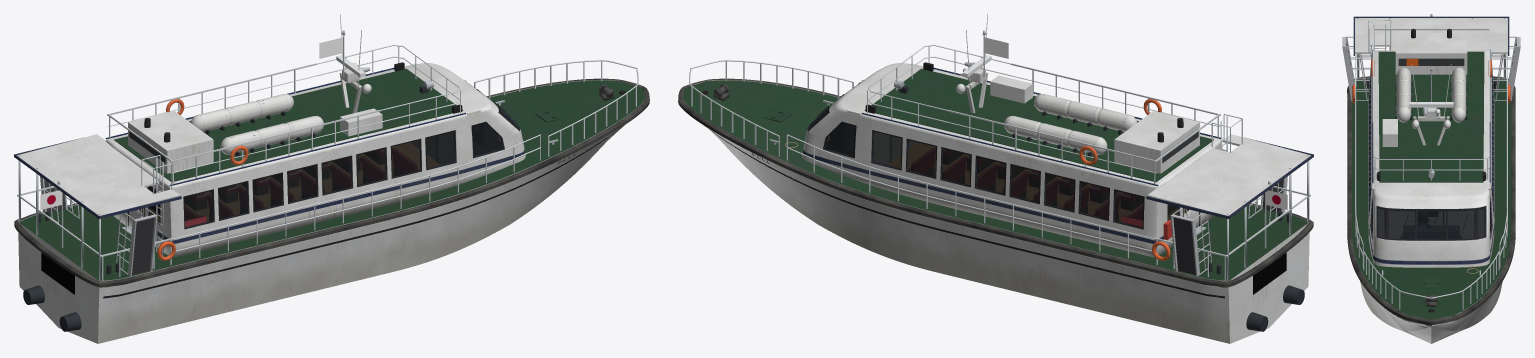
File: ferry.glb
3 views of the same model, side by side, from view 1: azimuth 30°, elevation 25°; view 2: azimuth 150°, elevation 25°; view 3: azimuth 270°, elevation 25° (orthographic). The views are drawn at different scales.
Parts seen in each view (by area): view 1: hull__glb, cabin_shell__glb, deck__glb, roof_deck__glb, cabin_glass__glb, aft_canopy__glb, rubbing_strake__glb, paint__glb, rail__glb, transom__glb, raft__glb, side_rail_stbd__glb (+17 smaller); view 2: hull__glb, cabin_shell__glb, deck__glb, roof_deck__glb, cabin_glass__glb, aft_canopy__glb, rubbing_strake__glb, paint__glb, rail__glb, transom__glb, raft__glb, side_rail_port__glb (+17 smaller); view 3: deck__glb, cabin_shell__glb, roof_deck__glb, aft_canopy__glb, paint__glb, rubbing_strake__glb, cabin_glass__glb, hull__glb, rail__glb, raft__glb, helm_partition__glb, helm_dash__glb (+16 smaller).
Boxes of the visible parts, left/top/right/bottom form: hull__glb: left=21, top=80, right=644, bottom=343; cabin_shell__glb: left=106, top=63, right=525, bottom=257; deck__glb: left=19, top=80, right=644, bottom=281; roof_deck__glb: left=114, top=68, right=463, bottom=181; cabin_glass__glb: left=139, top=111, right=518, bottom=227; aft_canopy__glb: left=17, top=134, right=180, bottom=215; rubbing_strake__glb: left=14, top=78, right=649, bottom=287; paint__glb: left=128, top=62, right=480, bottom=173; rail__glb: left=17, top=60, right=638, bottom=281; transom__glb: left=18, top=222, right=99, bottom=343; raft__glb: left=190, top=94, right=323, bottom=154; side_rail_stbd__glb: left=170, top=134, right=540, bottom=265; hull__glb: left=683, top=80, right=1306, bottom=343; cabin_shell__glb: left=802, top=63, right=1222, bottom=257; deck__glb: left=683, top=80, right=1308, bottom=281; roof_deck__glb: left=864, top=68, right=1213, bottom=182; cabin_glass__glb: left=809, top=111, right=1188, bottom=227; aft_canopy__glb: left=1147, top=134, right=1310, bottom=215; rubbing_strake__glb: left=678, top=78, right=1313, bottom=287; paint__glb: left=847, top=63, right=1199, bottom=173; rail__glb: left=689, top=60, right=1310, bottom=281; transom__glb: left=1228, top=222, right=1309, bottom=343; raft__glb: left=1004, top=94, right=1137, bottom=154; side_rail_port__glb: left=786, top=134, right=1157, bottom=265; deck__glb: left=1351, top=79, right=1511, bottom=319; cabin_shell__glb: left=1368, top=50, right=1494, bottom=267; roof_deck__glb: left=1378, top=51, right=1484, bottom=182; aft_canopy__glb: left=1355, top=18, right=1507, bottom=54; paint__glb: left=1372, top=33, right=1490, bottom=190; rubbing_strake__glb: left=1347, top=76, right=1515, bottom=326; cabin_glass__glb: left=1370, top=133, right=1492, bottom=239; hull__glb: left=1351, top=79, right=1511, bottom=343; rail__glb: left=1355, top=28, right=1507, bottom=309; raft__glb: left=1396, top=67, right=1466, bottom=122; helm_partition__glb: left=1379, top=209, right=1483, bottom=238; helm_dash__glb: left=1403, top=226, right=1459, bottom=238.
Size of the model in its own units: 24.86 by 9.21 by 6.94.
Materials: 58 (27 with a texture image).
